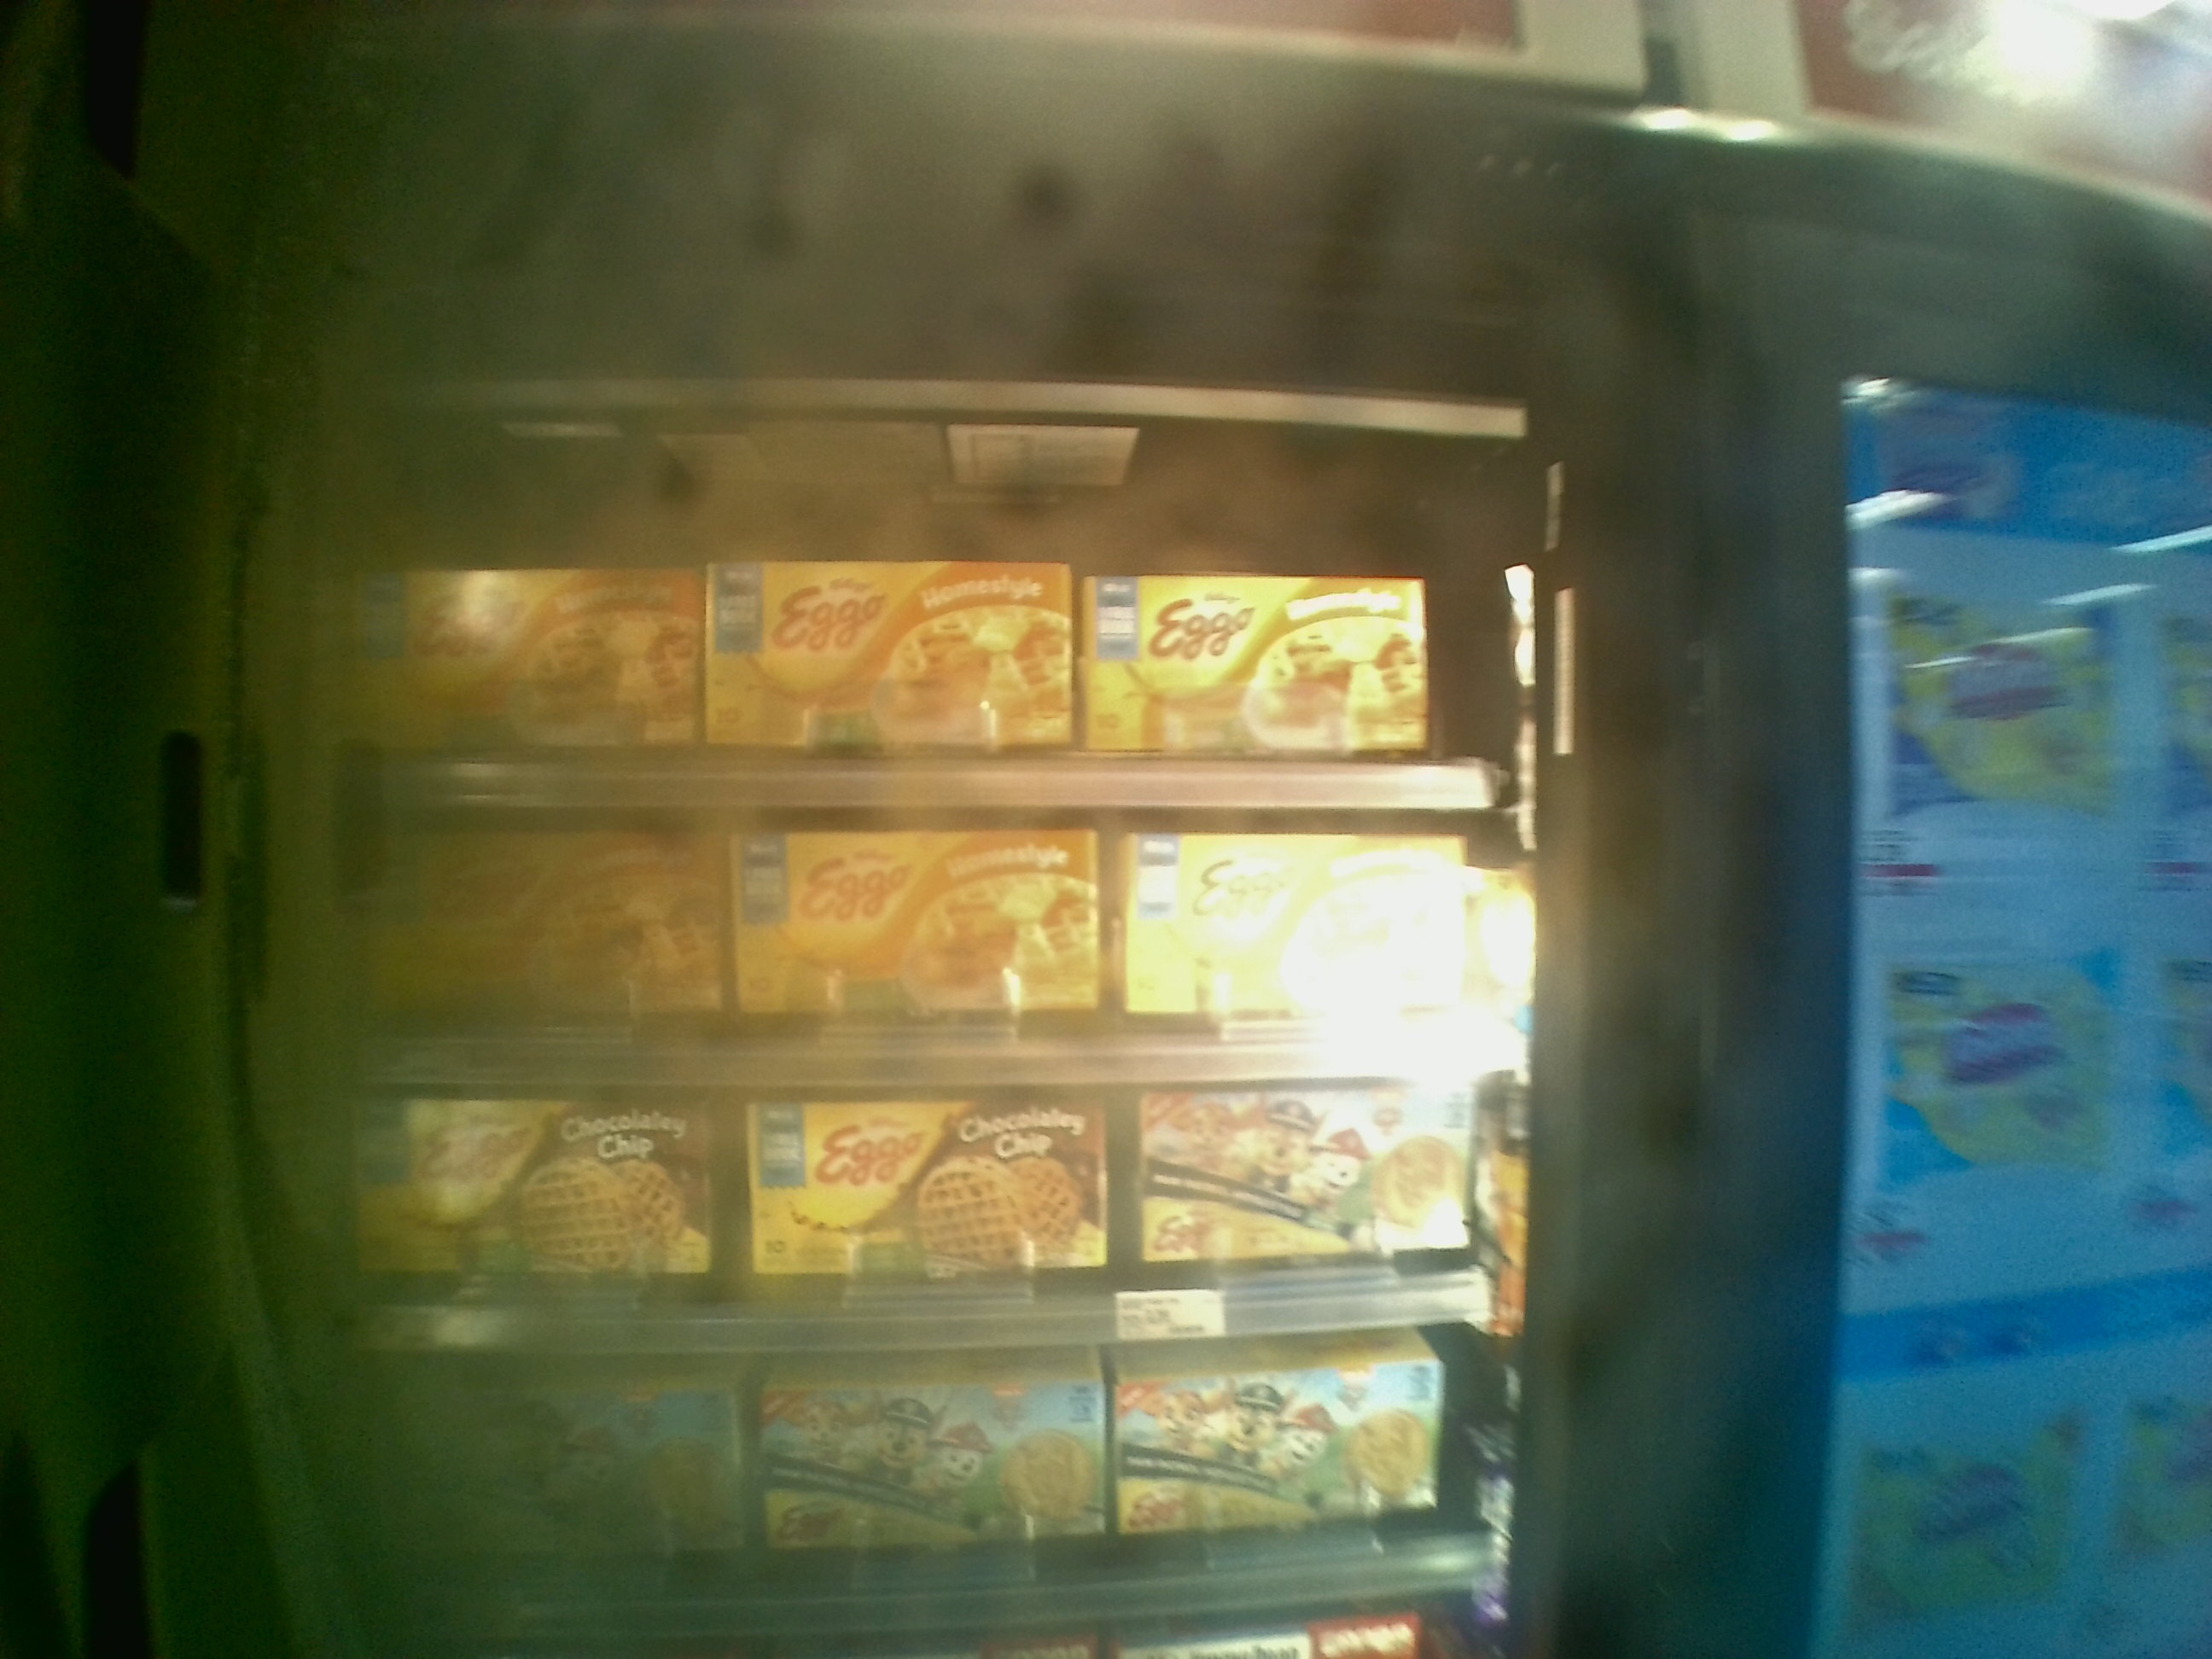shelf: (355, 422, 1491, 802), (354, 798, 1536, 1082), (355, 1086, 1503, 1349)
